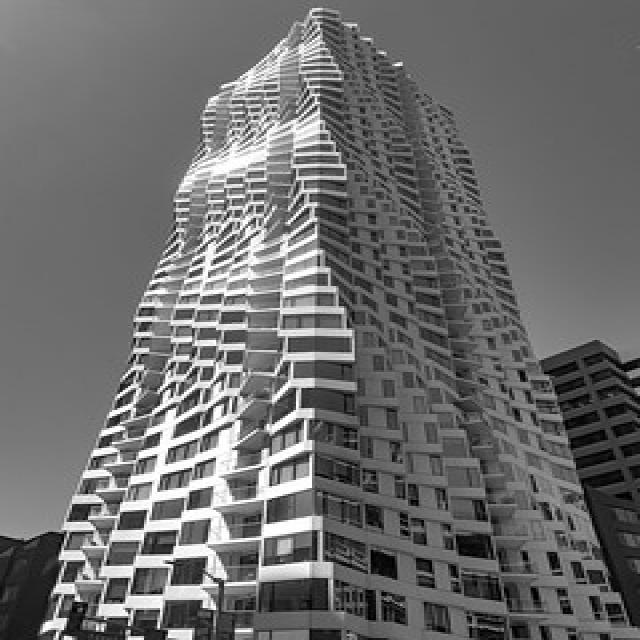Normal_building: (32, 6, 640, 640)
